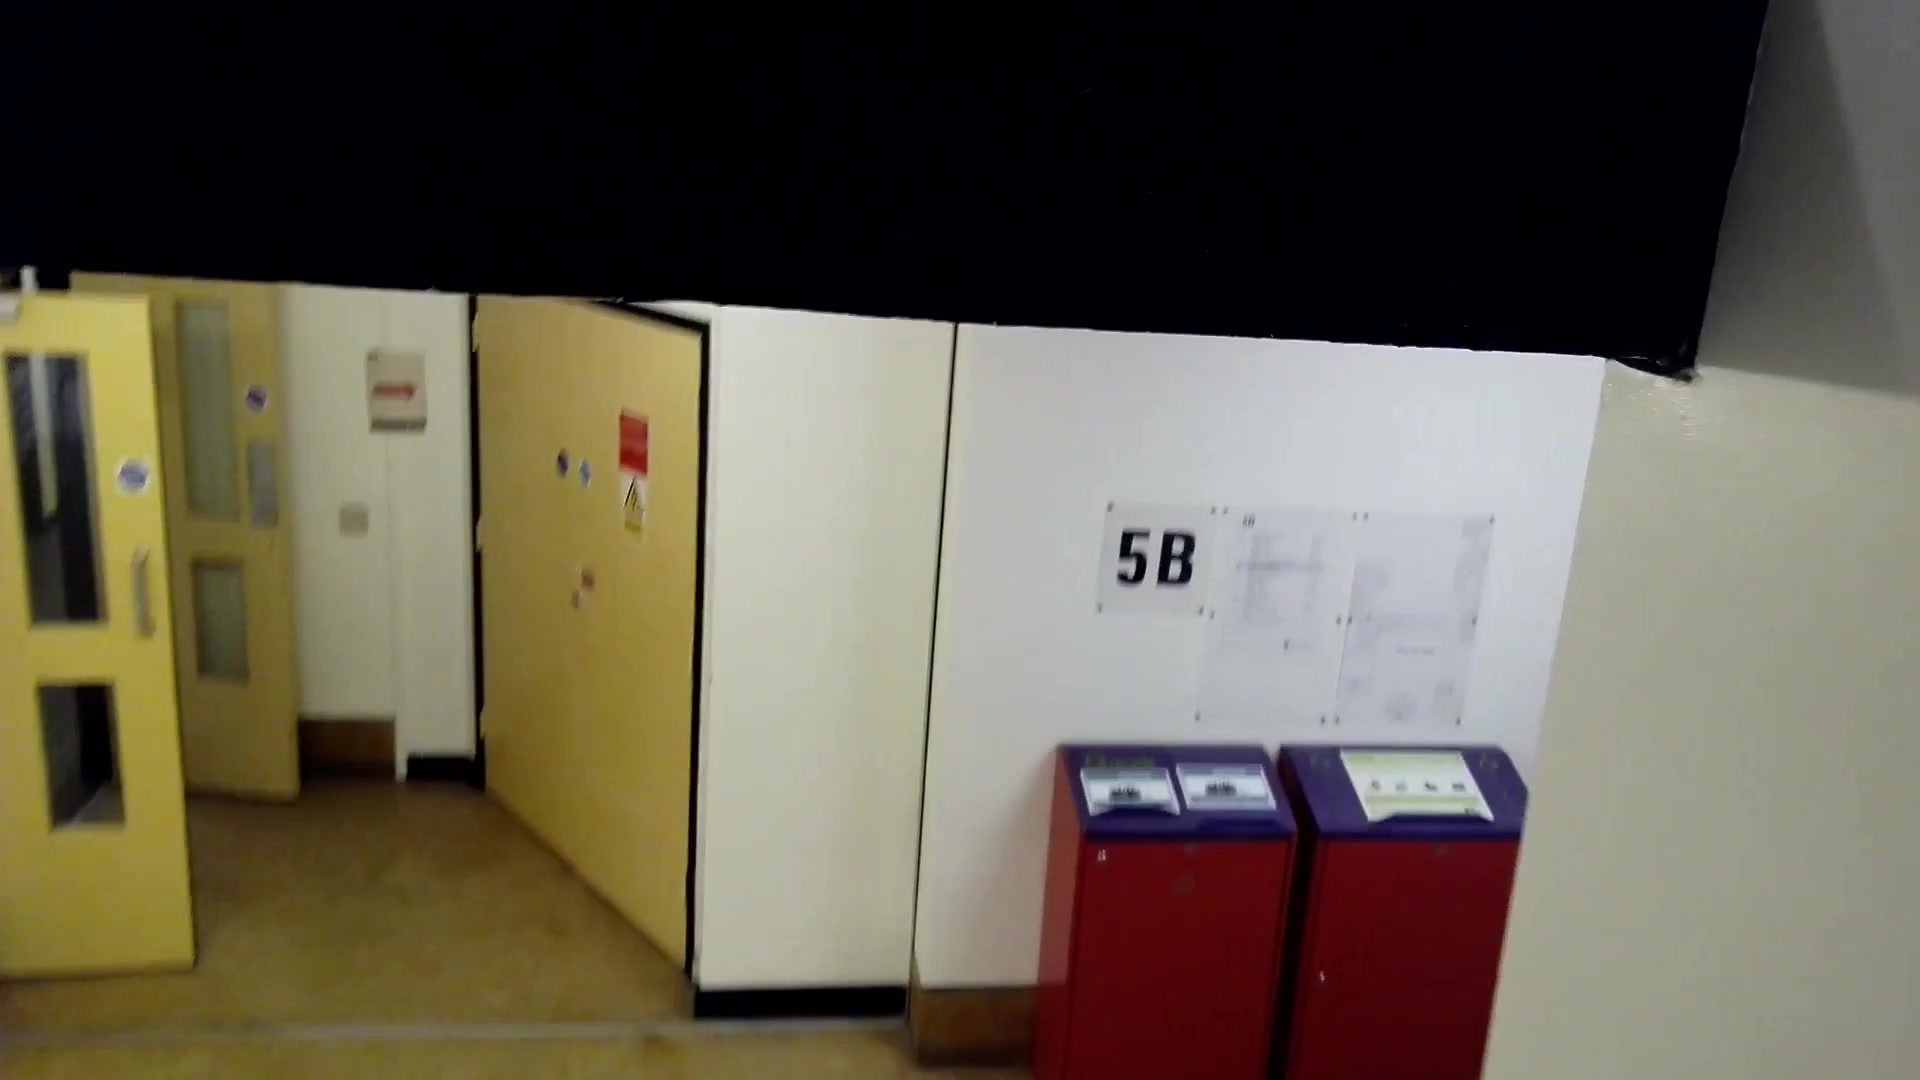Bin: (1044, 735, 1302, 1080)
Door: (1, 290, 174, 992)
